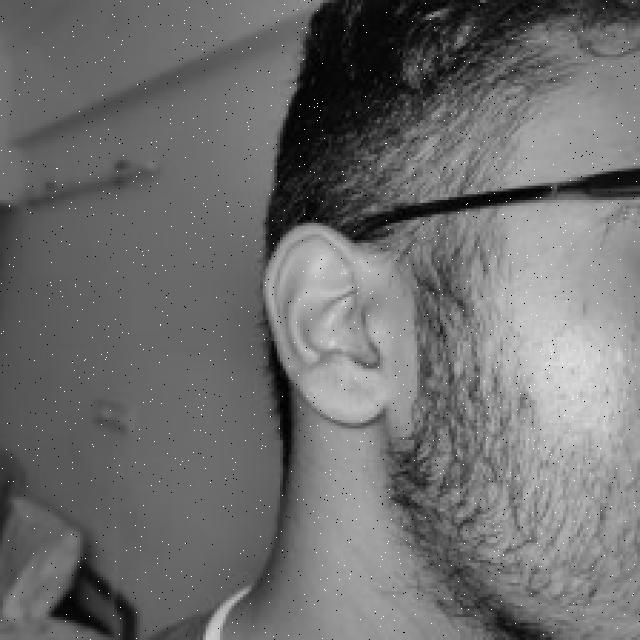ear: (260, 220, 380, 420)
